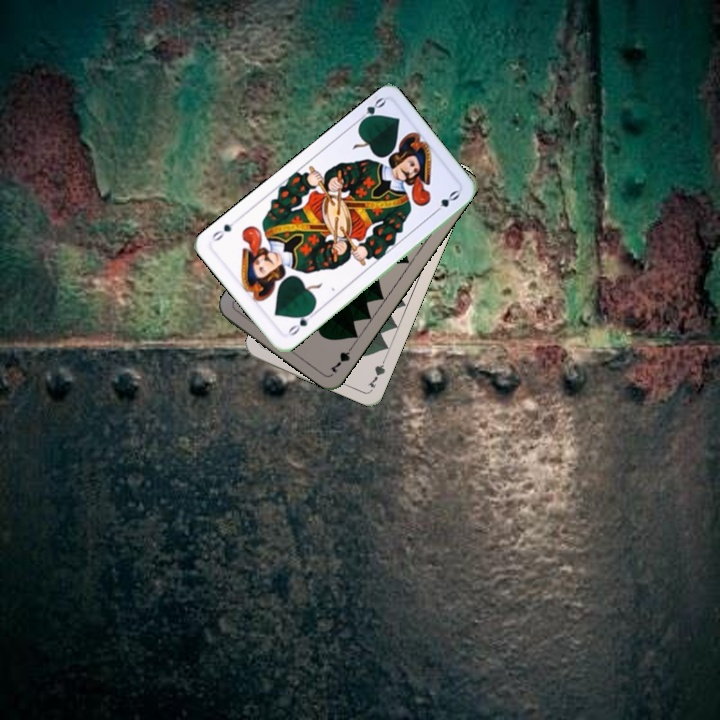G7: (326, 340, 357, 376), (363, 352, 389, 391)
GO: (352, 93, 388, 128), (281, 307, 317, 339)
